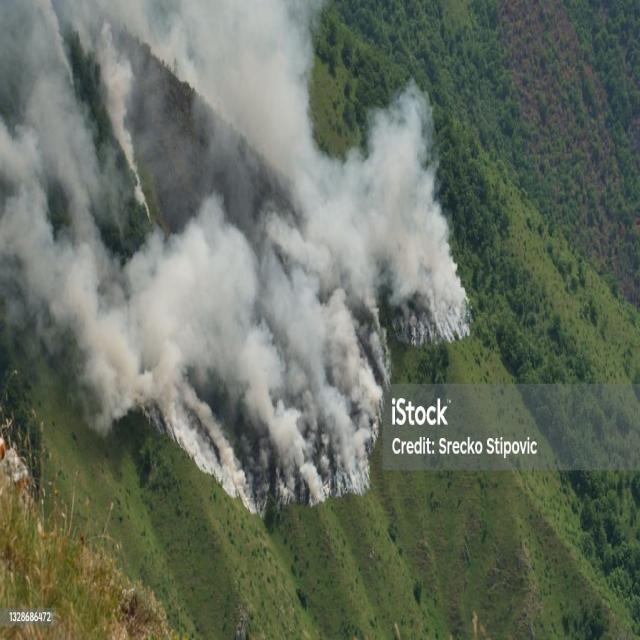Smoke: (2, 0, 352, 518), (236, 79, 470, 352)
